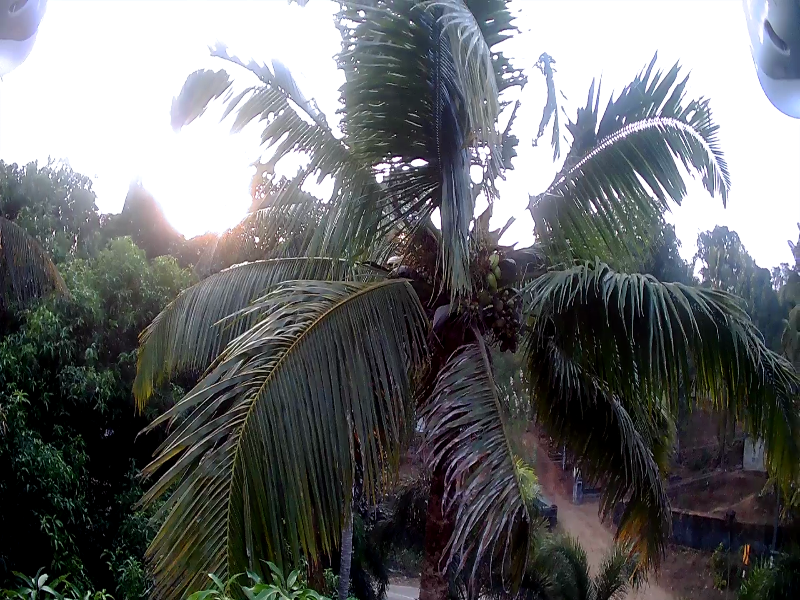coconut: (480, 271, 495, 287), (491, 297, 506, 313), (498, 312, 514, 327), (485, 251, 497, 270), (504, 290, 514, 309)
